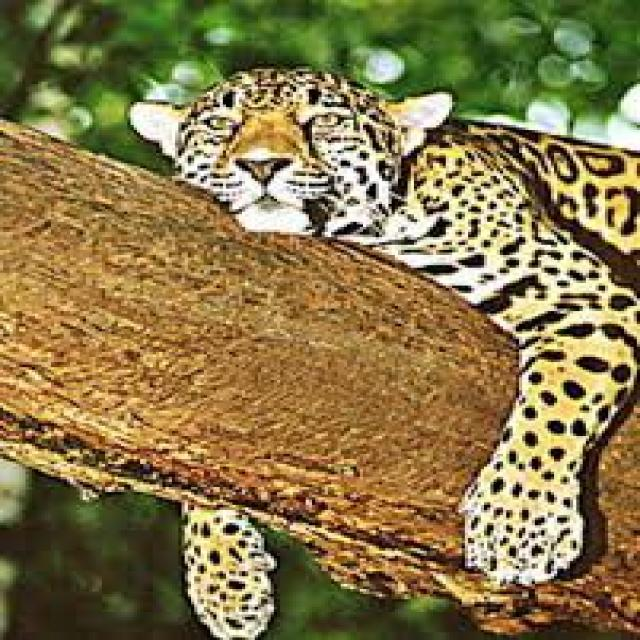Jaguar: (121, 56, 640, 457)
